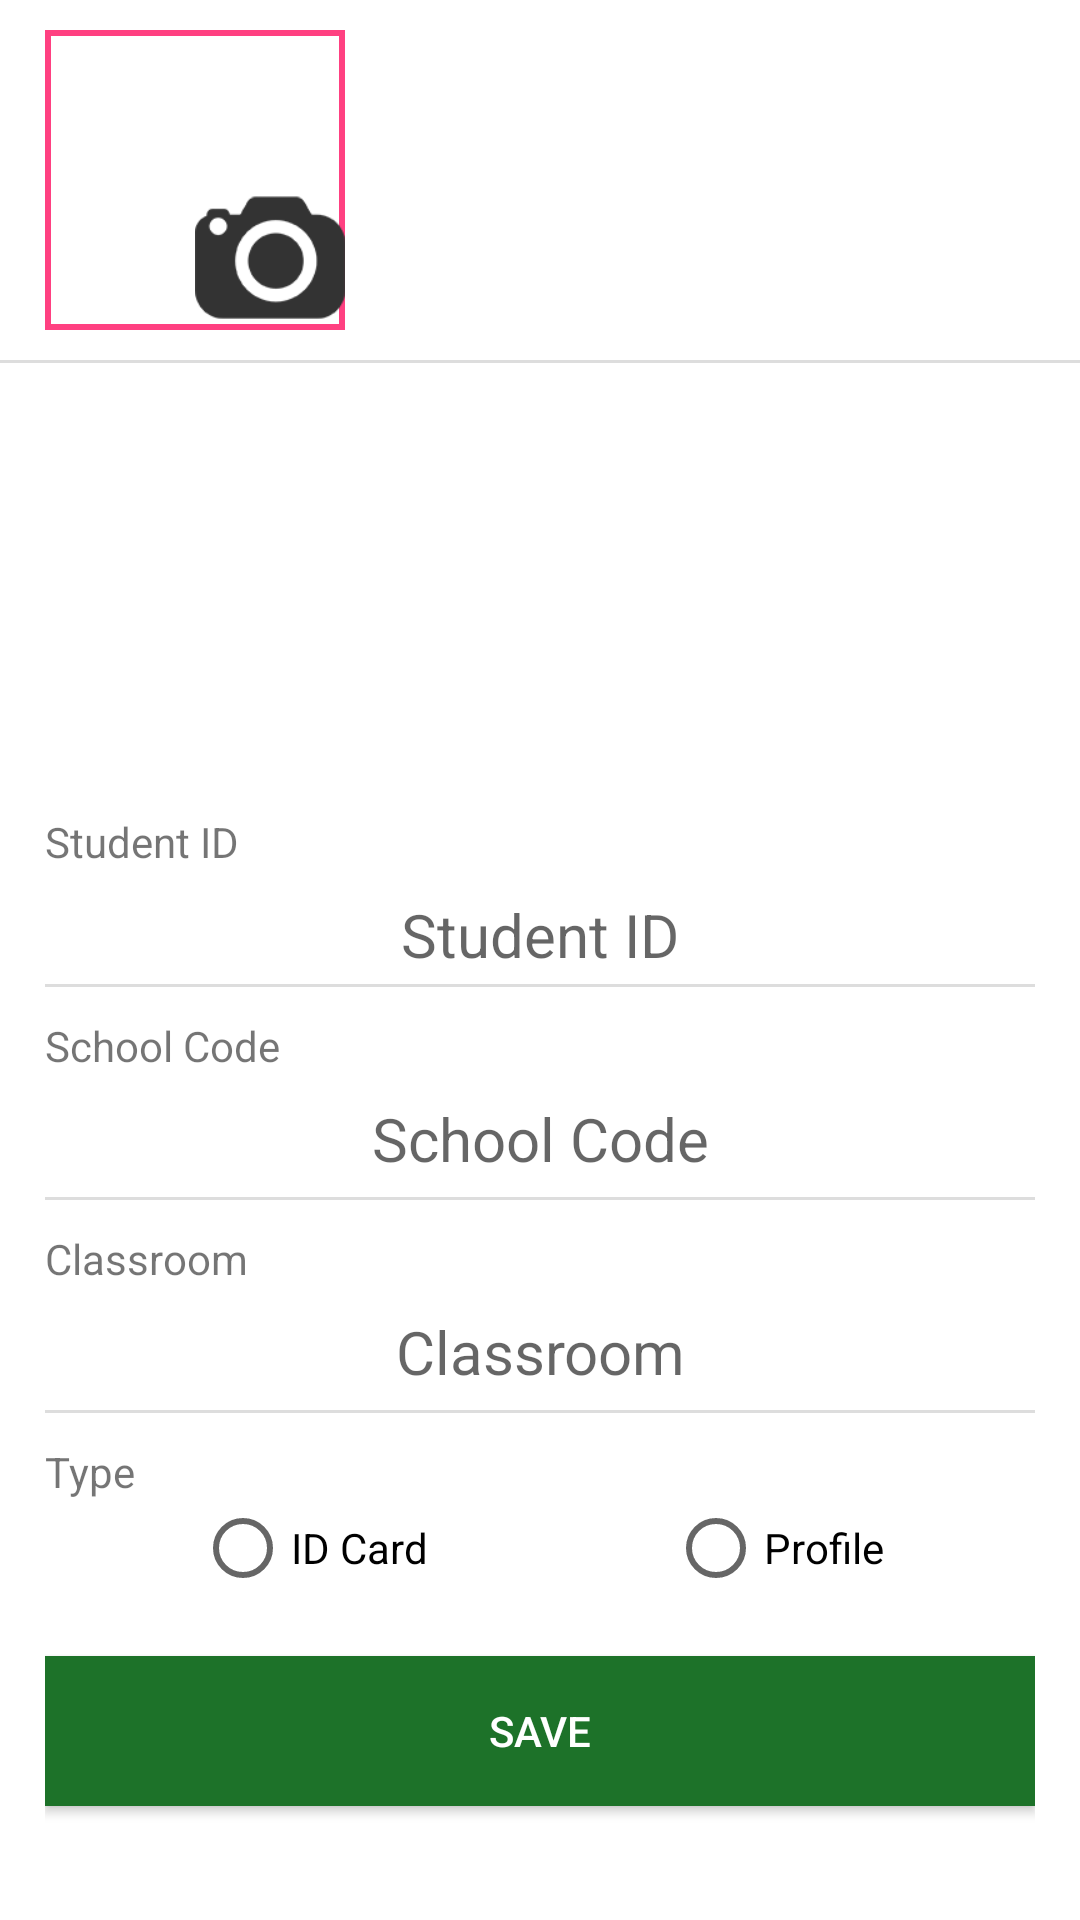

Named icons in this screenshot (1080*1920) and their bounding boxes, (x1, y1, x2, y2):
camera: (195, 180, 345, 330)
